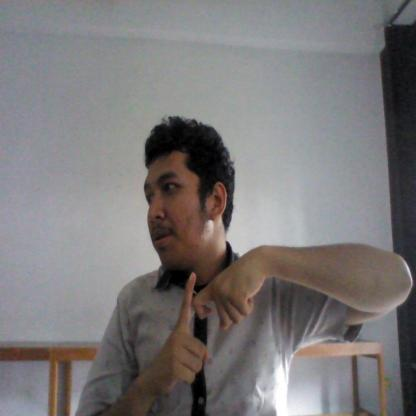K: (159, 246, 262, 396)
